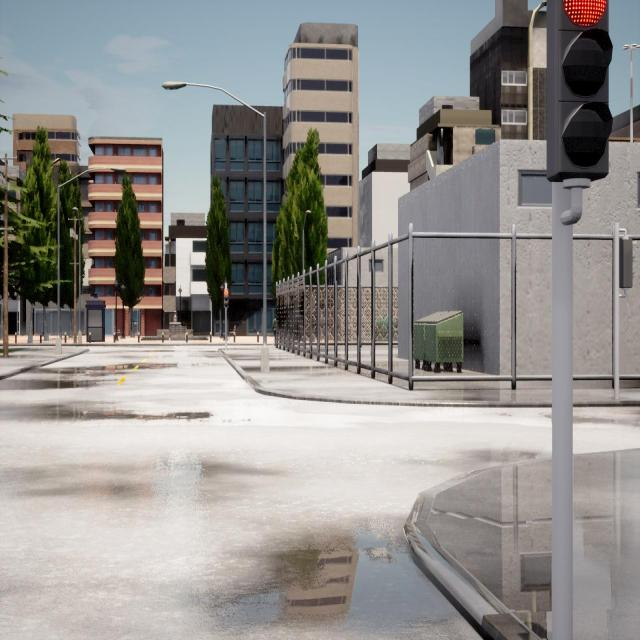Pedestrian: (271, 312, 277, 346)
traffic_light: (546, 0, 611, 181), (613, 227, 636, 297), (223, 288, 229, 308)
